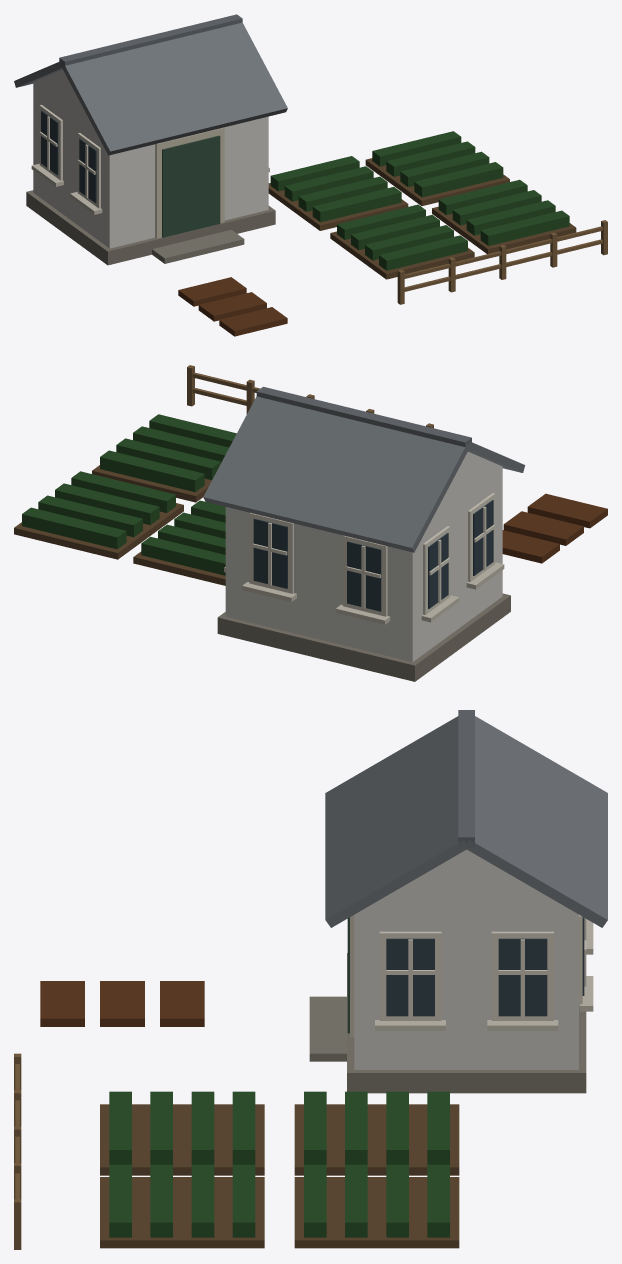
The model's file is procedural_coffee_farm@6.glb.
3 renders of one model, top to bottom at view 1: azimuth 30°, elevation 25°; view 2: azimuth 150°, elevation 25°; view 3: azimuth 270°, elevation 25°, orthographic. The views are drawn at different scales.
Parts seen in each view (by area): view 1: part_0; view 2: part_0; view 3: part_0.
Part boxes in pixels (<box>): part_0: <box>14,14,607,336</box>; part_0: <box>14,365,607,681</box>; part_0: <box>14,710,607,1249</box>.
Size of the model in its own units: 8.86 by 3.83 by 7.94.
